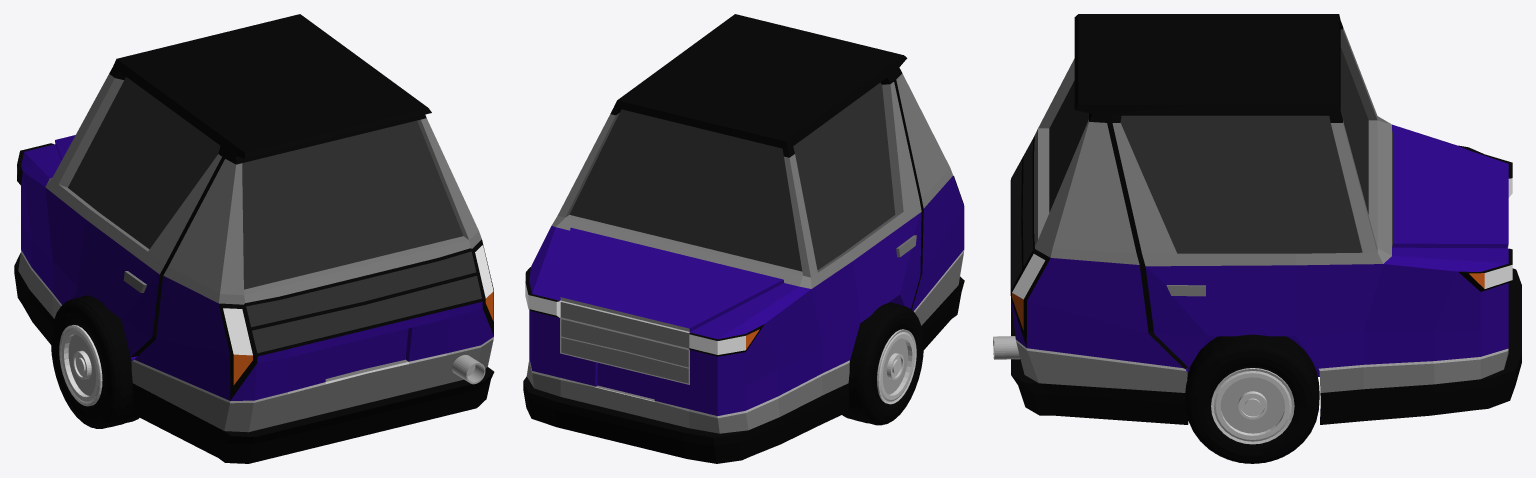
Rendered from CR-CAR-20.fbx.
3 views of the same model, side by side, from view 1: azimuth 30°, elevation 25°; view 2: azimuth 150°, elevation 25°; view 3: azimuth 270°, elevation 25° (orthographic). The views are drawn at different scales.
Parts seen in each view (by area): view 1: BODY, WHEEL.004, SHACMAN; view 2: BODY, WHEEL.004; view 3: BODY, WHEEL.002, SHACMAN.
Part boxes in pixels (x1,y1,x2,y2): BODY: (14,14,494,463); WHEEL.004: (51,295,139,428); SHACMAN: (452,354,485,384); BODY: (523,14,964,463); WHEEL.004: (842,302,923,425); BODY: (1010,14,1521,424); WHEEL.002: (1185,334,1319,463); SHACMAN: (993,336,1020,359).
Size of the model in its own units: 110 by 96.57 by 143.
